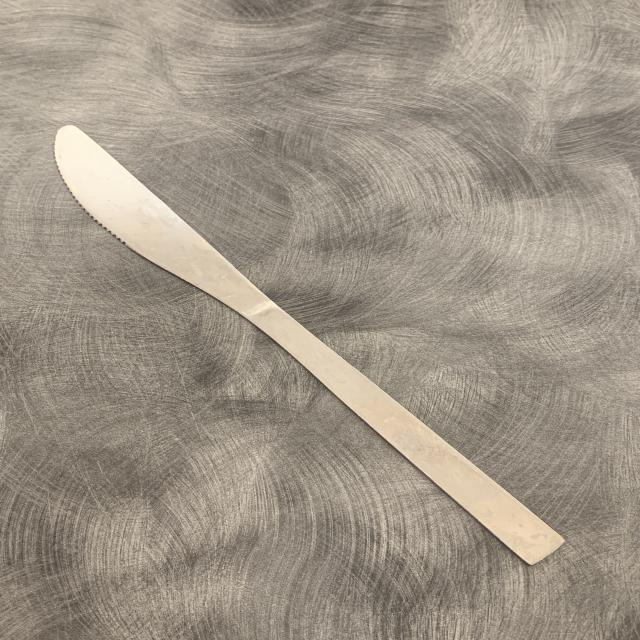knife: (34, 107, 569, 584)
